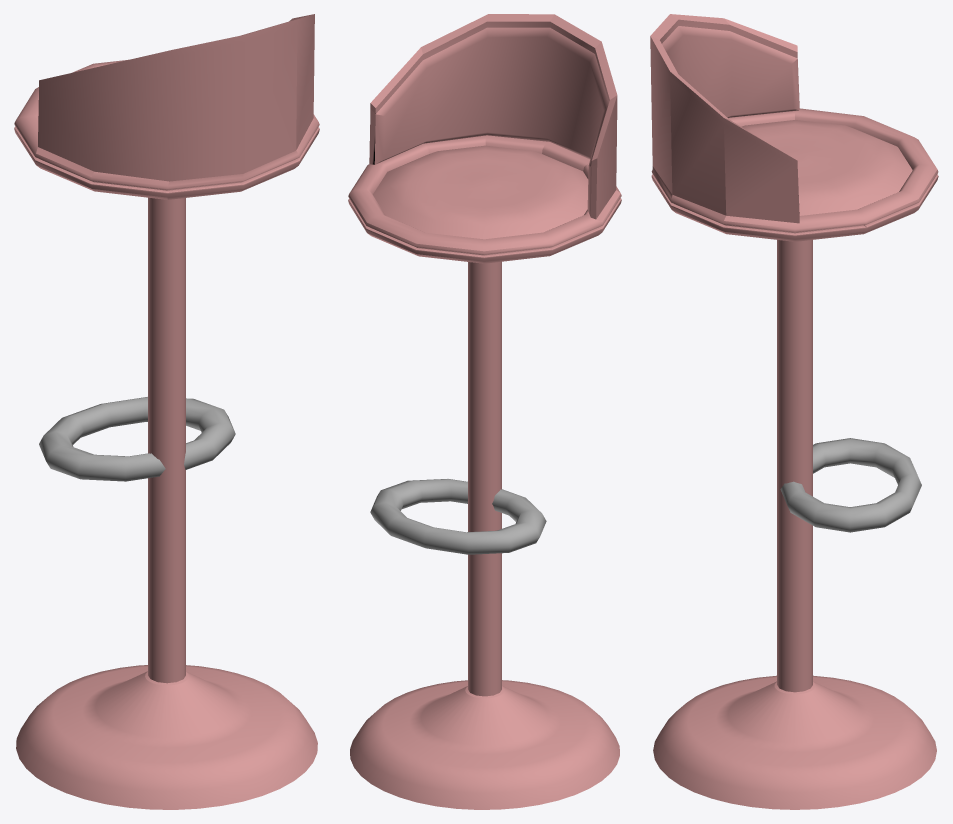
Rendered from BarChairs01.fbx.
3 views of the same model, side by side, from view 1: azimuth 30°, elevation 25°; view 2: azimuth 150°, elevation 25°; view 3: azimuth 270°, elevation 25° (orthographic). The views are drawn at different scales.
Parts seen in each view (by area): view 1: pTorus2; view 2: pTorus2; view 3: pTorus2.
Part boxes in pixels (left/top/right/bottom): pTorus2: left=14, top=14, right=319, bottom=809; pTorus2: left=348, top=14, right=621, bottom=809; pTorus2: left=650, top=14, right=938, bottom=809.
Bounding box in the file's own units: 38.54 × 107 × 39.14.
